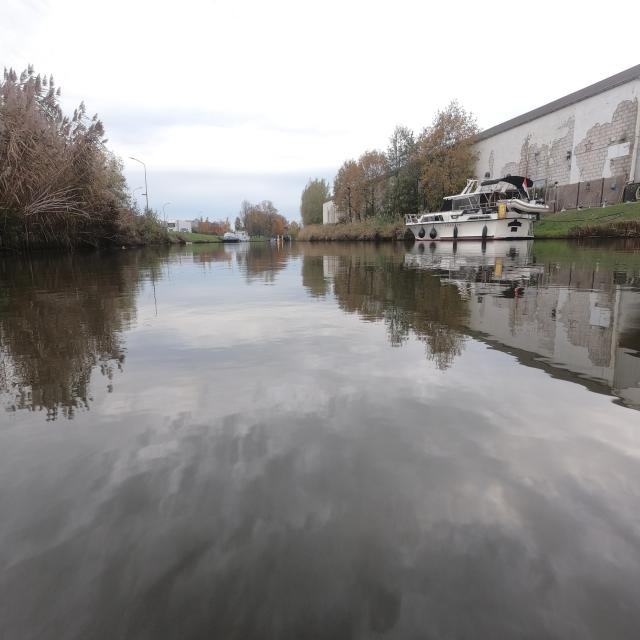boat: (224, 231, 249, 242)
grass: (533, 201, 639, 234)
reed: (0, 63, 183, 251), (297, 217, 412, 241)
sky: (2, 1, 637, 219)
tree: (419, 100, 479, 211), (381, 125, 424, 218), (333, 150, 388, 221)
water: (1, 238, 638, 639)
